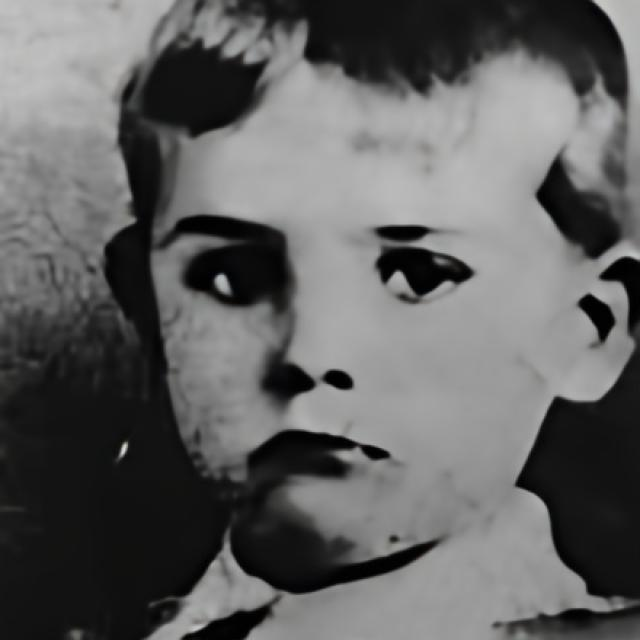neutral: (150, 23, 554, 569)
